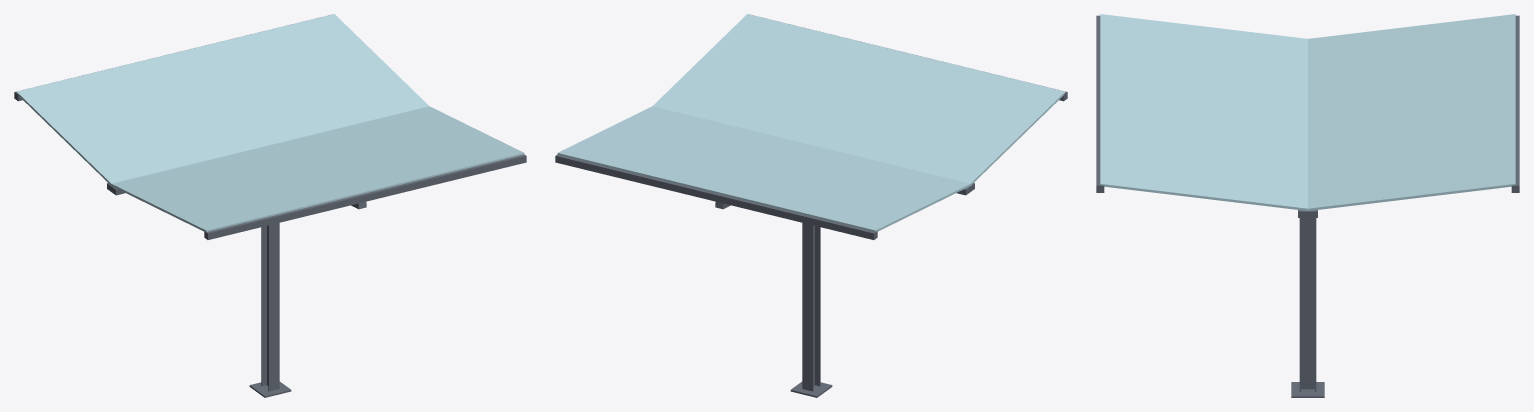
Rendered from station.rail.canopy_bay.glb.
The picture shows the model from 3 angles, left to right: view 1: azimuth 30°, elevation 25°; view 2: azimuth 150°, elevation 25°; view 3: azimuth 270°, elevation 25°; orthographic projection. The views are drawn at different scales.
Visible parts, largest first — view 1: roof__glass, frame__steel_painted, roof__steel_painted; view 2: roof__glass, frame__steel_painted, roof__steel_painted; view 3: roof__glass, frame__steel_painted, roof__steel_painted.
Boxes of the visible parts, x1,y1,x2,y2 form: roof__glass: (16,14,524,231); frame__steel_painted: (249,201,366,397); roof__steel_painted: (14,14,526,239); roof__glass: (557,14,1065,231); frame__steel_painted: (715,201,832,397); roof__steel_painted: (555,14,1067,239); roof__glass: (1100,14,1515,210); frame__steel_painted: (1291,218,1324,397); roof__steel_painted: (1096,15,1519,217).
Bounding box in the file's own units: 6.01 × 4.81 × 6.32.
